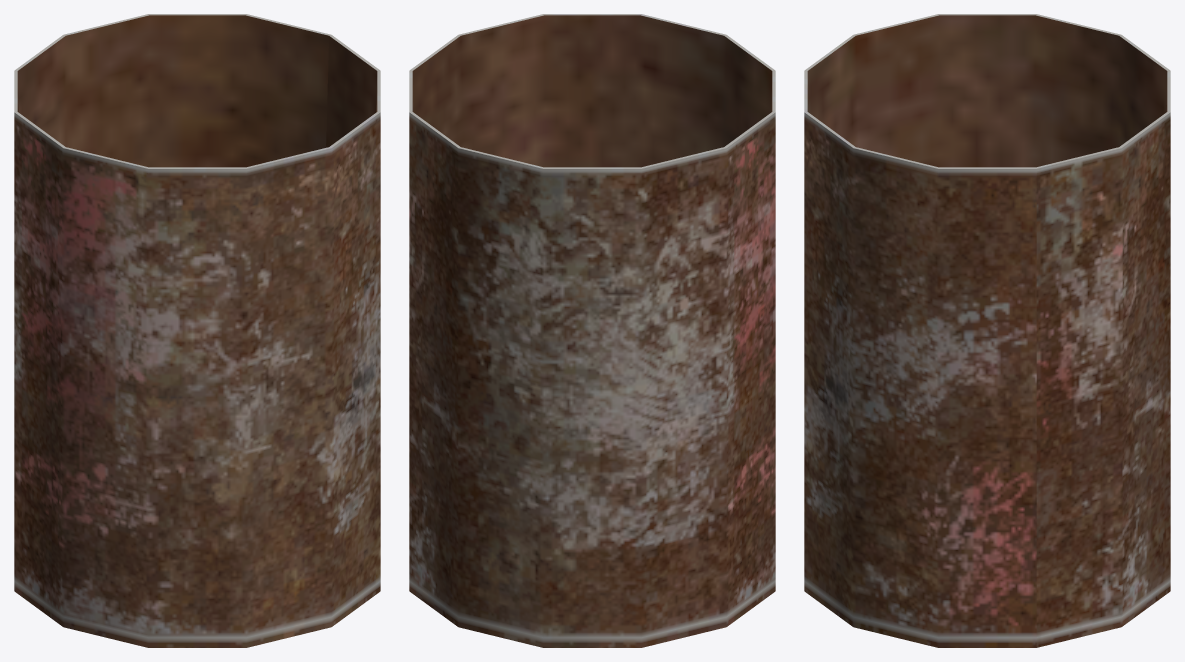
File: SM_TrashCan_02_B.fbx
3 views of the same model, side by side, from view 1: azimuth 30°, elevation 25°; view 2: azimuth 150°, elevation 25°; view 3: azimuth 270°, elevation 25° (orthographic).
Visible parts, largest first — view 1: SM_TrashCan_02_B; view 2: SM_TrashCan_02_B; view 3: SM_TrashCan_02_B.
Boxes of the visible parts, x1,y1,x2,y2 form: SM_TrashCan_02_B: [14, 14, 380, 647]; SM_TrashCan_02_B: [409, 14, 775, 647]; SM_TrashCan_02_B: [804, 14, 1170, 647].
Bounding box in the file's own units: 12.34 × 12.34 × 17.79.
1 material, 1 textured.
